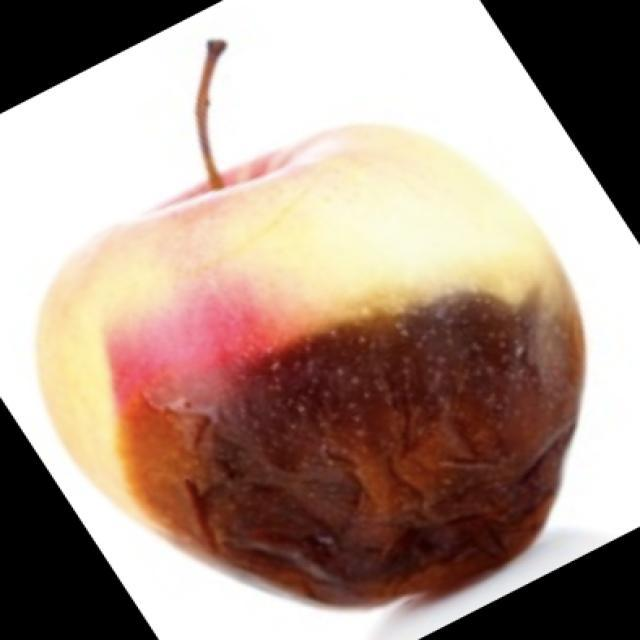Rotten: (40, 138, 587, 635)
